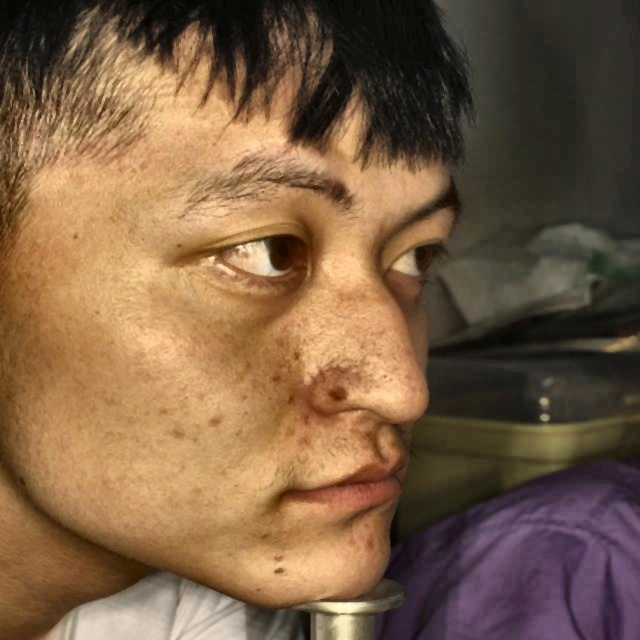comedone: (203, 406, 226, 430), (360, 538, 380, 562)
